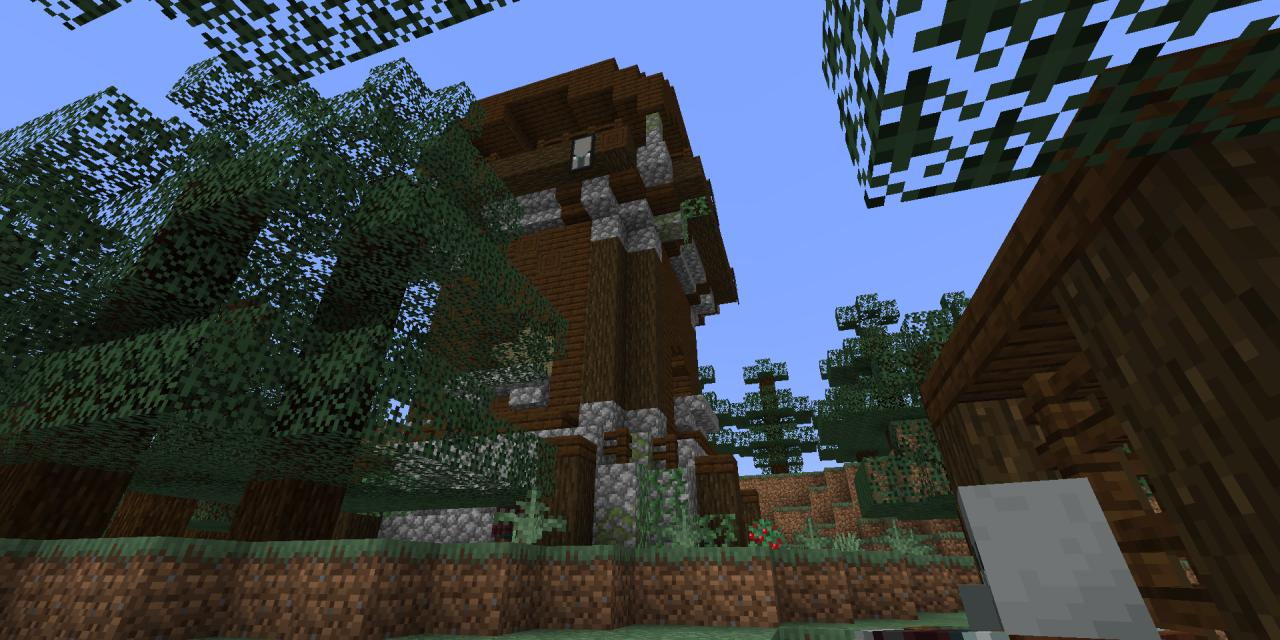pillager outpost: (352, 38, 762, 567)
